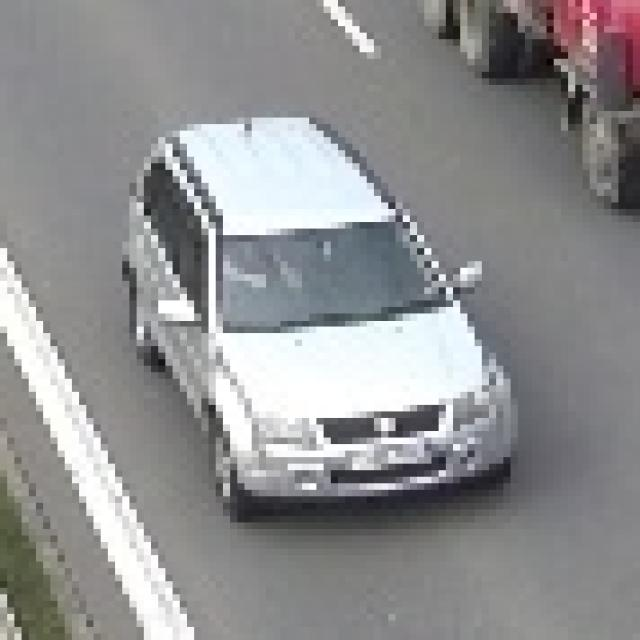SUV: (139, 138, 503, 498)
